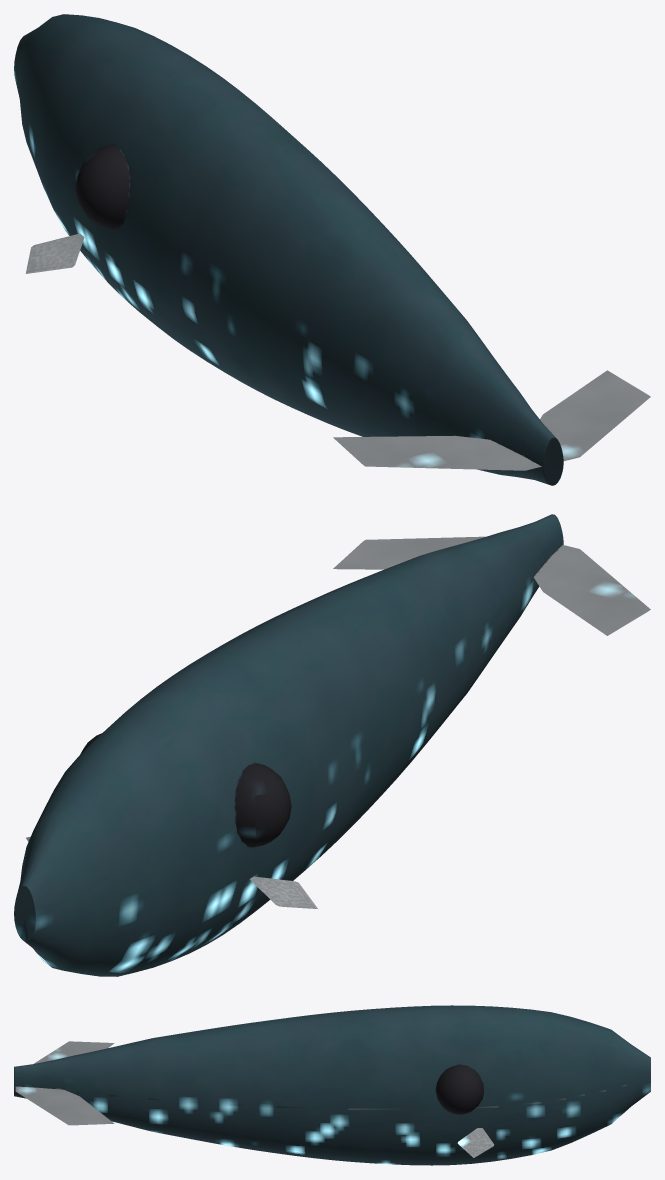
File: myctophum_punctatum.glb
The picture shows the model from 3 angles, top to bottom: view 1: azimuth 30°, elevation 25°; view 2: azimuth 150°, elevation 25°; view 3: azimuth 270°, elevation 25°; orthographic projection. The views are drawn at different scales.
Visible parts, largest first — view 1: myctophum_punctatum; view 2: myctophum_punctatum; view 3: myctophum_punctatum.
Part boxes in pixels (bbox=[...]): myctophum_punctatum: bbox=[14, 14, 650, 485]; myctophum_punctatum: bbox=[14, 514, 650, 976]; myctophum_punctatum: bbox=[14, 1005, 650, 1165].
Size of the model in its own units: 0.3196 by 0.2645 by 1.
2 materials, 2 textured.
